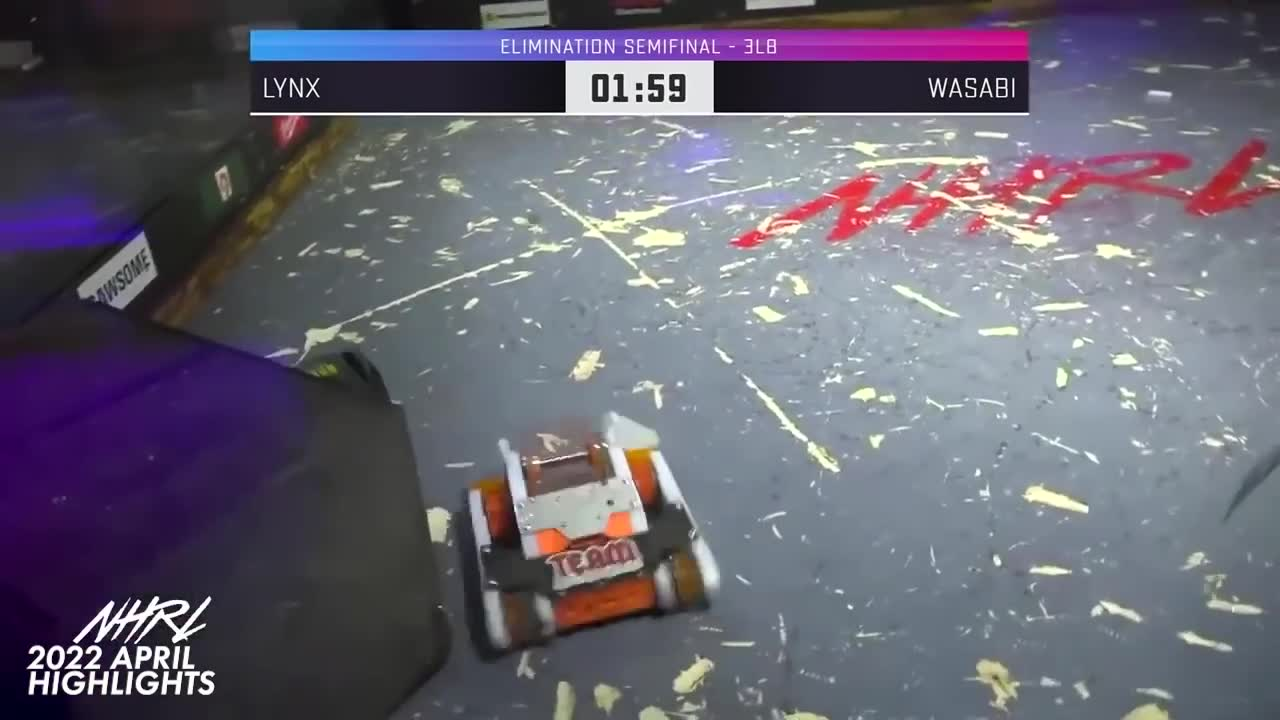combatbot: (471, 450, 718, 654)
housebot: (0, 297, 448, 720)
